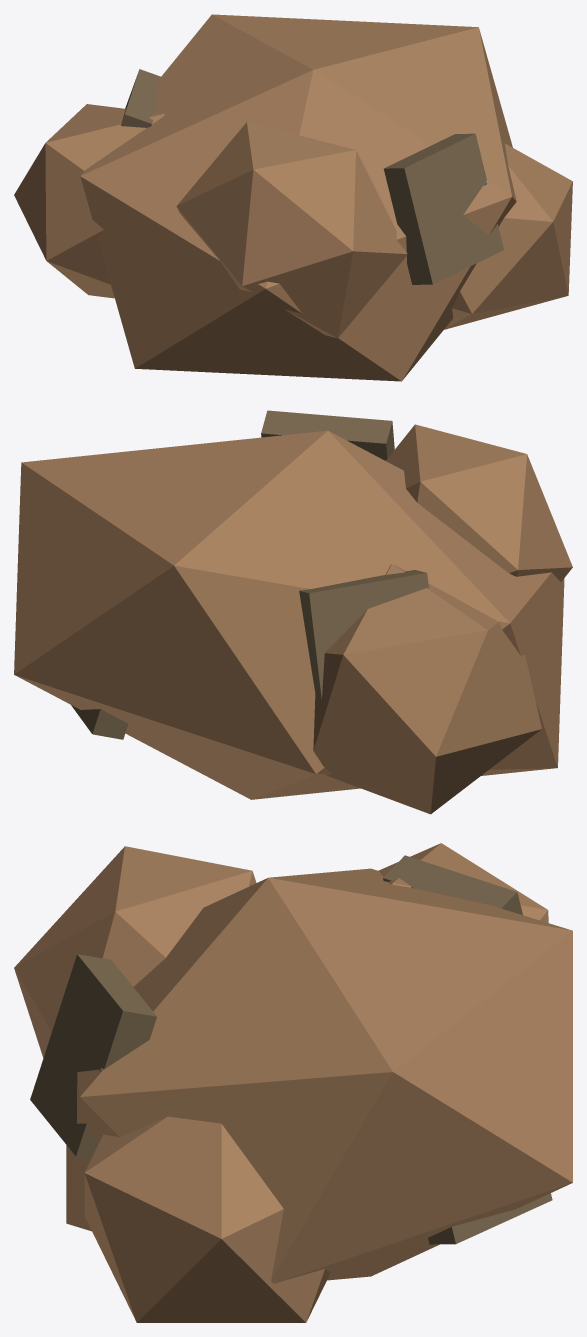
File: pickup_clay.glb
The picture shows the model from 3 angles, top to bottom: view 1: azimuth 30°, elevation 25°; view 2: azimuth 150°, elevation 25°; view 3: azimuth 270°, elevation 25°; orthographic projection. The views are drawn at different scales.
Visible parts, largest first — view 1: Clay_Mass, Clay_Lobe_3, Clay_Lobe_1, Clay_Lobe_2, Clay_Facet_4, Clay_Facet_2; view 2: Clay_Mass, Clay_Lobe_2, Clay_Lobe_3, Clay_Facet_2, Clay_Facet_4, Clay_Facet_1; view 3: Clay_Mass, Clay_Lobe_1, Clay_Lobe_3, Clay_Facet_4, Clay_Facet_2, Clay_Lobe_2, Clay_Facet_1.
Part boxes in pixels (x1,y1,x2,y2): Clay_Mass: (80, 14, 516, 381); Clay_Lobe_3: (176, 122, 407, 338); Clay_Lobe_1: (444, 143, 572, 329); Clay_Lobe_2: (14, 104, 164, 298); Clay_Facet_4: (384, 133, 503, 284); Clay_Facet_2: (121, 69, 160, 127); Clay_Mass: (14, 430, 564, 799); Clay_Lobe_2: (313, 564, 541, 814); Clay_Lobe_3: (386, 424, 572, 581); Clay_Facet_2: (299, 570, 428, 699); Clay_Facet_4: (261, 410, 394, 460); Clay_Facet_1: (71, 705, 128, 739); Clay_Mass: (66, 868, 572, 1283); Clay_Lobe_1: (84, 1116, 330, 1322); Clay_Lobe_3: (14, 846, 256, 1057); Clay_Facet_4: (30, 954, 156, 1158); Clay_Facet_2: (383, 855, 522, 914); Clay_Lobe_2: (378, 843, 548, 922); Clay_Facet_1: (428, 1193, 552, 1244).
Size of the model in its own units: 0.17 by 0.1015 by 0.1346.
